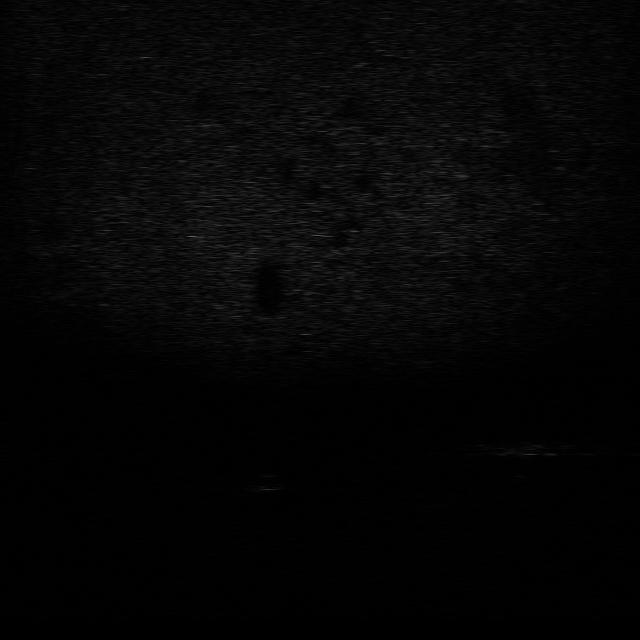ball: (245, 469, 289, 494)
human body: (469, 435, 576, 460)
